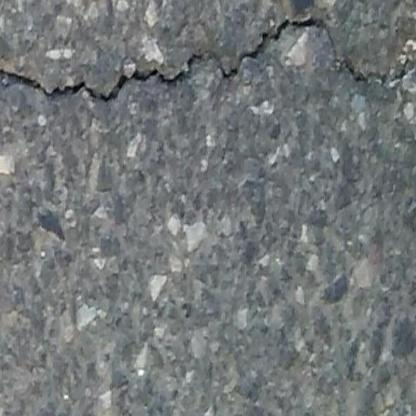Cracks: (0, 13, 416, 110)
